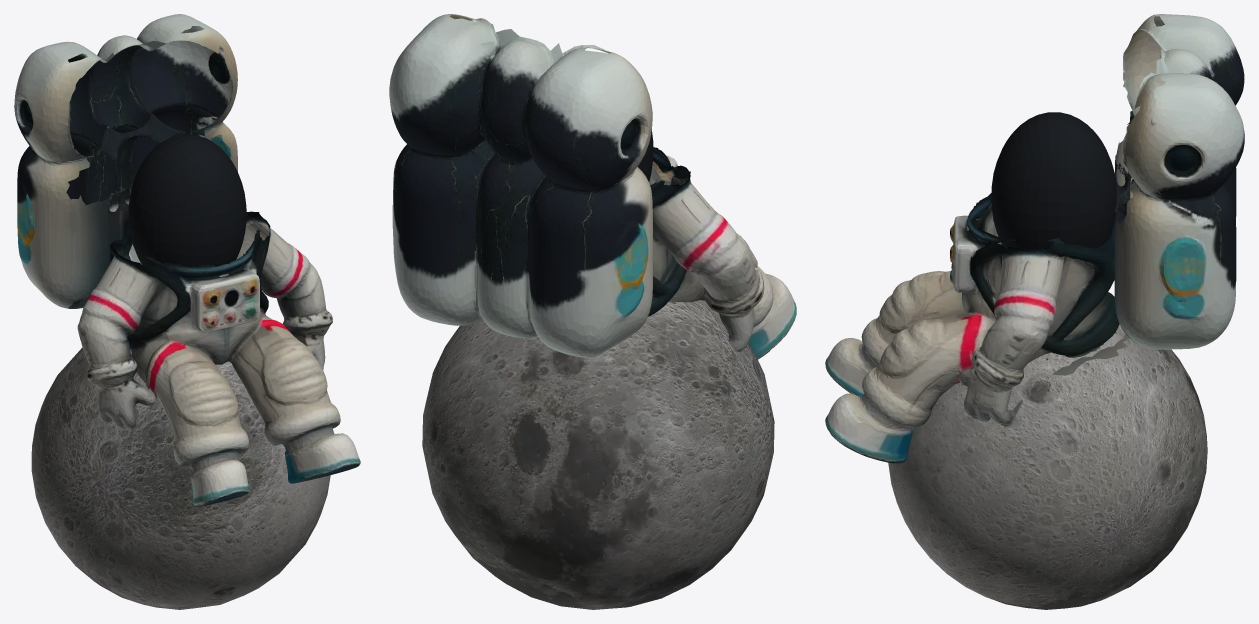
The model's file is astronaut_body.glb.
3 renders of one model, left to right at view 1: azimuth 30°, elevation 25°; view 2: azimuth 150°, elevation 25°; view 3: azimuth 270°, elevation 25°, orthographic. The views are drawn at different scales.
Parts seen in each view (by area): view 1: Cube_3; view 2: Cube_3; view 3: Cube_3.
Boxes of the visible parts, x1,y1,x2,y2 form: Cube_3: [14, 14, 360, 609]; Cube_3: [389, 14, 796, 609]; Cube_3: [825, 14, 1244, 609].
Size of the model in its own units: 1.02 by 1.93 by 1.34.
Materials: 3 (2 with a texture image).
